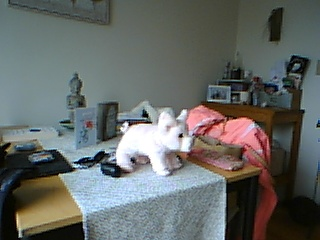piggy: (115, 107, 194, 178)
